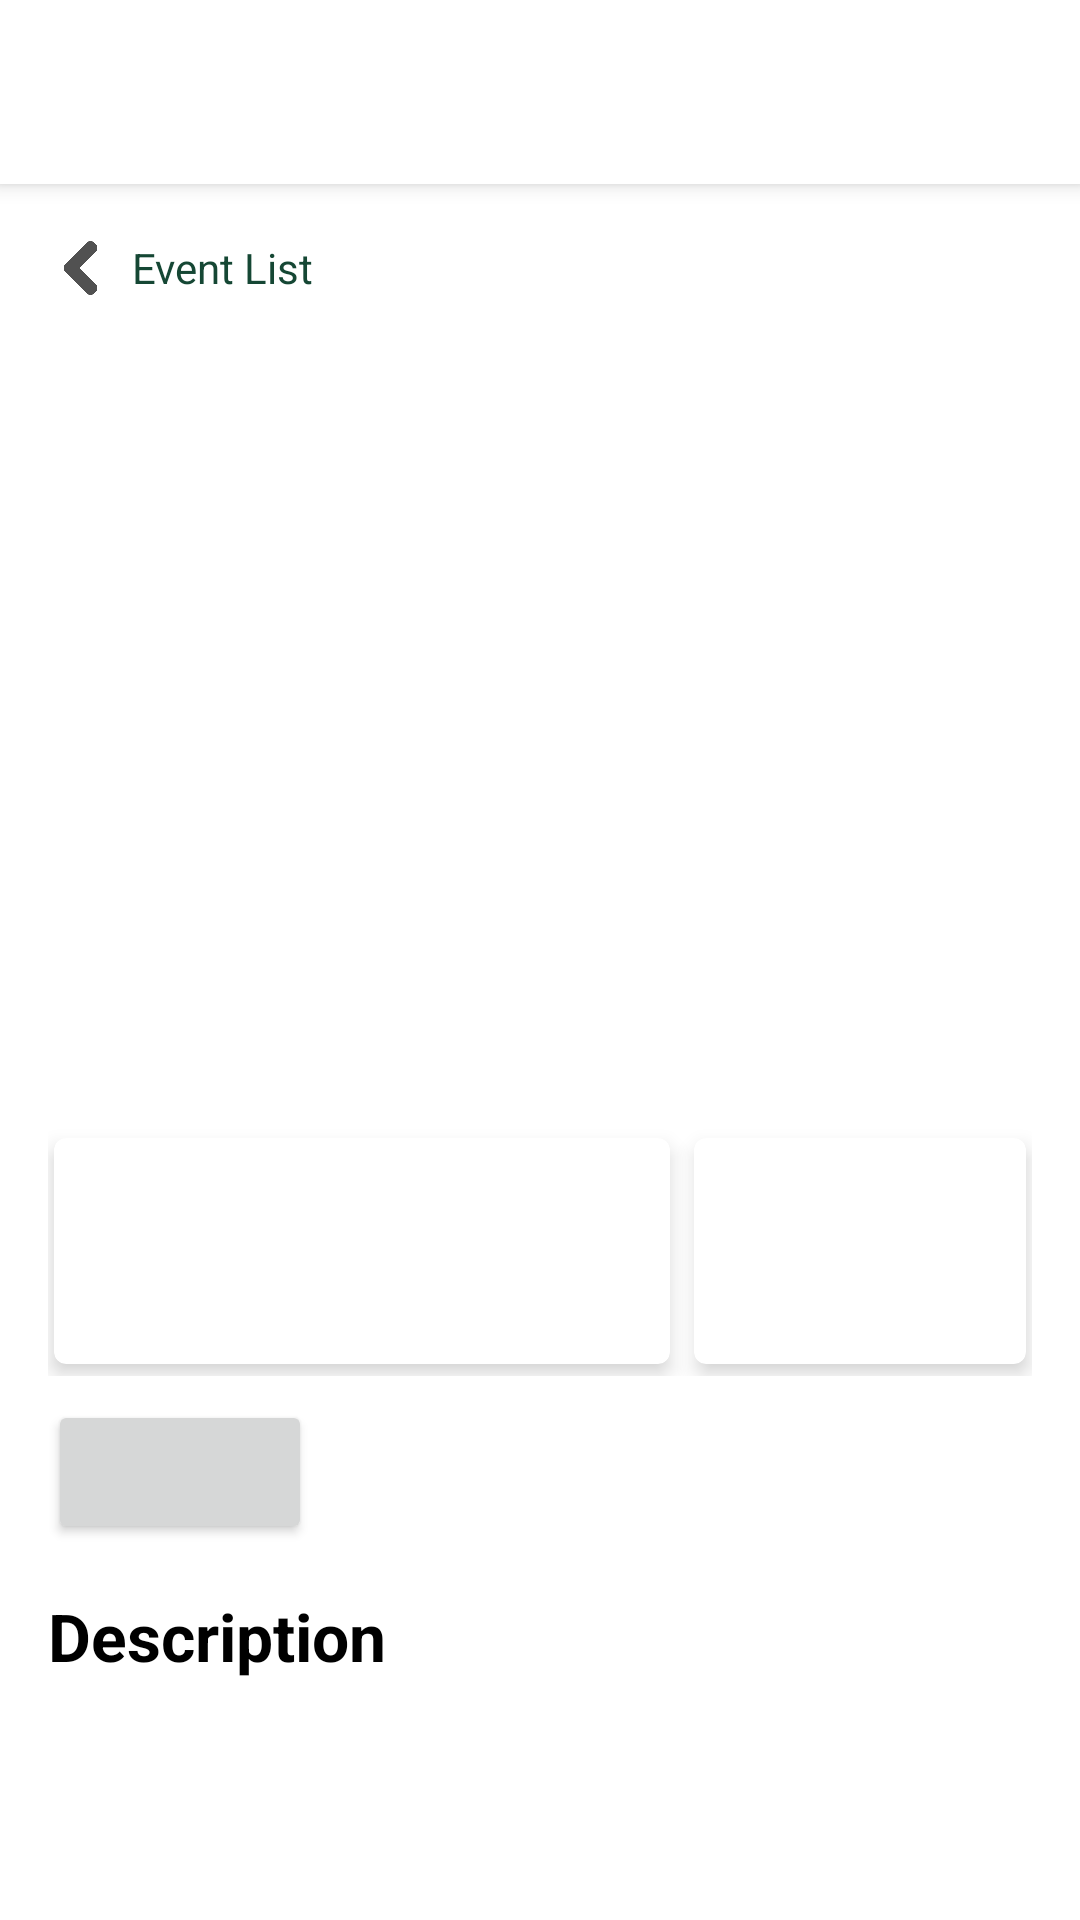

Icons on this 1080x1920 Android screen, each with the point to tap as point (x, y):
string/back: point (80, 268)
